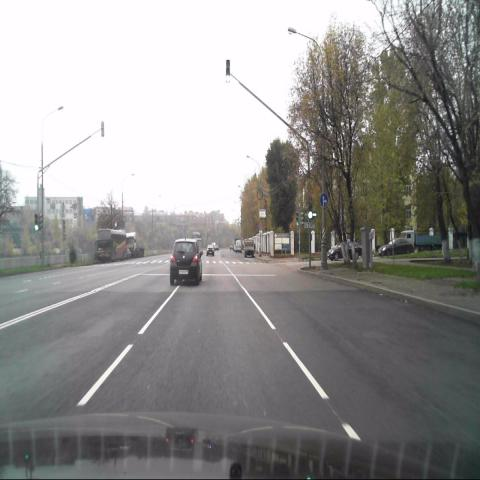2_1: (305, 179, 313, 195)
4_1_4: (320, 191, 328, 209)
